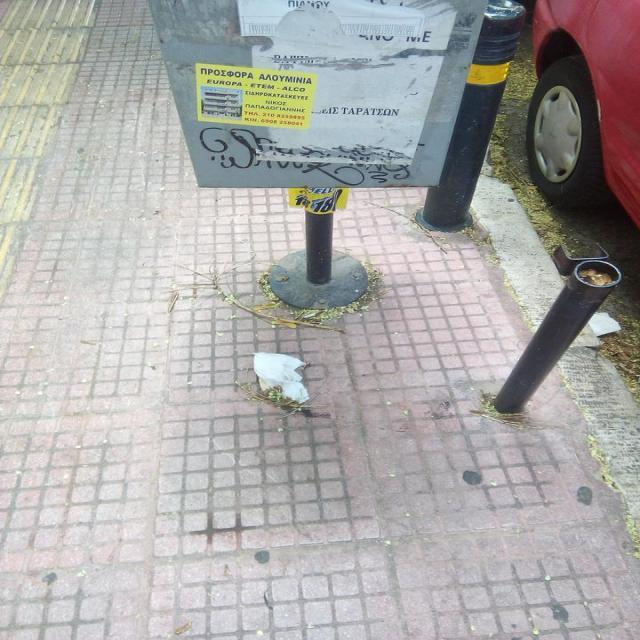nonspitting: (202, 124, 412, 186)
